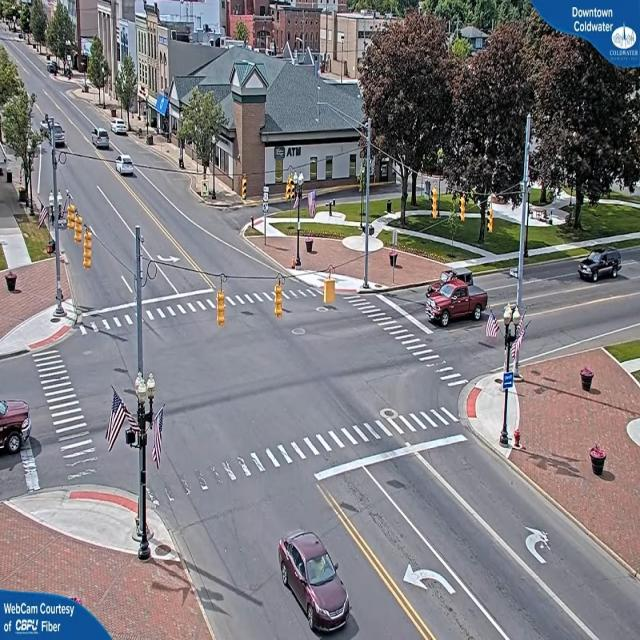car: (278, 531, 352, 635), (425, 275, 489, 327), (577, 248, 625, 284), (116, 156, 137, 177), (92, 128, 110, 149), (112, 120, 129, 136)
truck: (0, 394, 31, 459)
